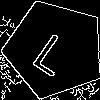L: (30, 24, 81, 78)
